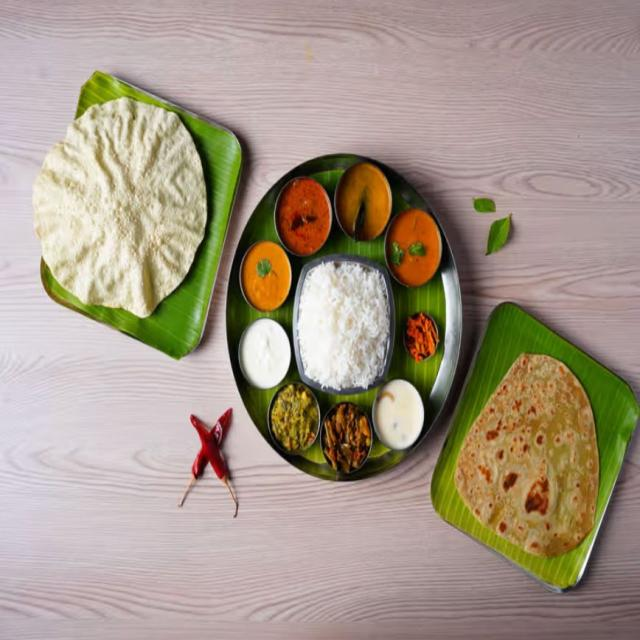CHAPATHI: (448, 347, 602, 558)
CURD: (239, 318, 292, 388)
CURRY: (321, 402, 376, 479)
KURMA: (242, 241, 294, 314)
PAPADAM: (28, 96, 207, 323)
PICKLE: (406, 314, 439, 359)
RASAM: (335, 160, 390, 245)
RICE: (299, 270, 388, 396)
SAMBAR: (276, 178, 335, 259)
SWEET: (374, 378, 427, 450)
VEGGIES: (270, 385, 324, 451)
